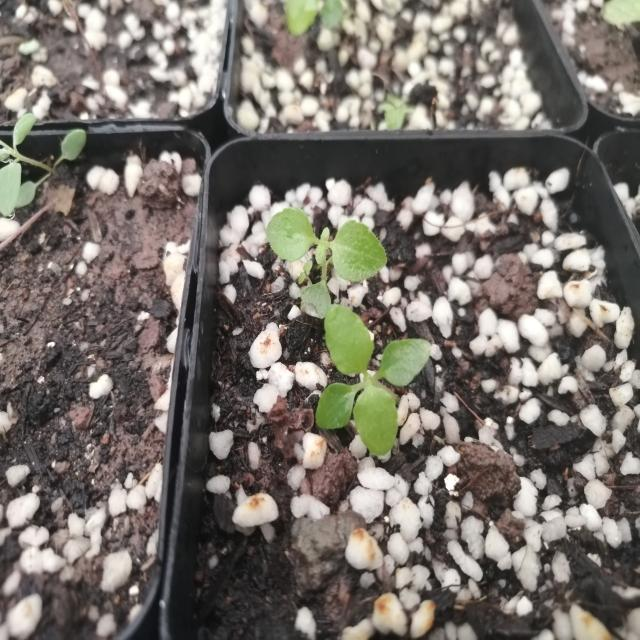billygoat_weed: (312, 298, 443, 448), (261, 195, 386, 314)
